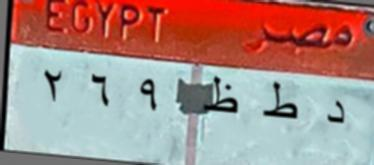2: (44, 63, 68, 111)
6: (88, 67, 120, 123)
9: (134, 68, 165, 121)
Taa: (255, 78, 301, 137)
Thaa: (200, 70, 240, 128)
daal: (319, 96, 350, 138)
